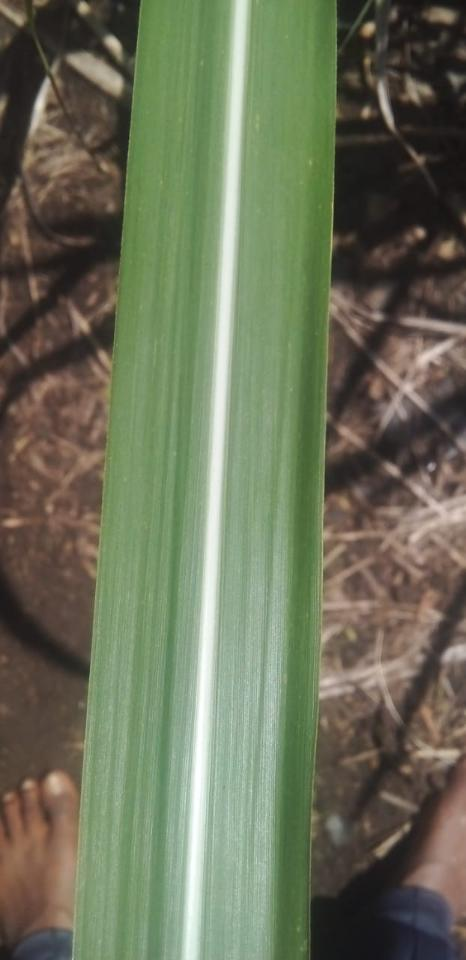Healthy: (74, 0, 336, 959)
